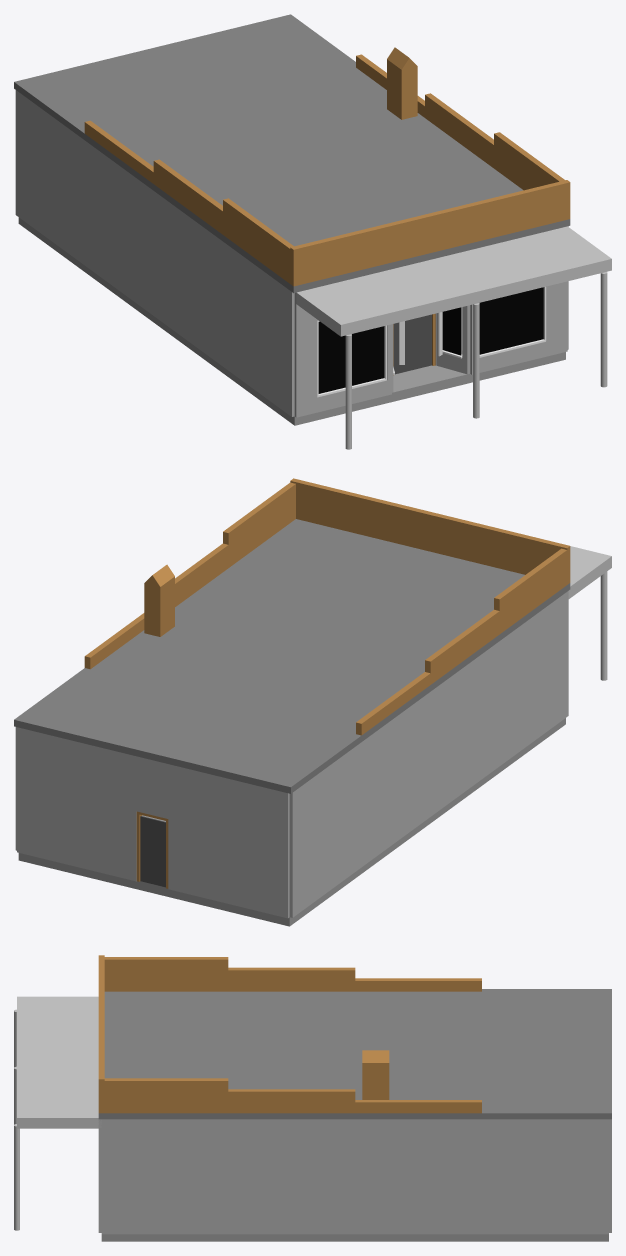
Rendered from building_phase_1b_iter_004.glb.
The picture shows the model from 3 angles, top to bottom: view 1: azimuth 30°, elevation 25°; view 2: azimuth 150°, elevation 25°; view 3: azimuth 270°, elevation 25°; orthographic projection. The views are drawn at different scales.
Visible parts, largest first — view 1: Roof, Wall_Left, Canopy_Roof, Parapet_Front, Wall_Front, Foundation, Front_Left_Window_Glass, Front_Right_Window_Glass, Parapet_Left_Level_1, Parapet_Right_Level_1, Parapet_Left_Level_2, Parapet_Right_Level_2 (+10 smaller); view 2: Roof, Wall_Left, Wall_Rear, Parapet_Front, Foundation, Parapet_Left_Level_1, Parapet_Right_Level_1, Parapet_Left_Level_2, Rear_Service_Door_Panel, Parapet_Right_Level_2, Chimney, Canopy_Roof (+3 smaller); view 3: Wall_Right, Roof, Canopy_Roof, Parapet_Right_Level_1, Parapet_Left_Level_1, Foundation, Parapet_Left_Level_2, Parapet_Right_Level_2, Parapet_Left_Level_3, Parapet_Right_Level_3, Parapet_Front, Chimney (+2 smaller).
Part boxes in pixels (x1,y1,x2,y2): Roof: (14, 14, 570, 293); Wall_Left: (15, 90, 294, 416); Canopy_Roof: (296, 226, 611, 336); Parapet_Front: (290, 180, 570, 286); Wall_Front: (294, 281, 567, 417); Foundation: (18, 217, 565, 425); Front_Left_Window_Glass: (318, 321, 384, 393); Front_Right_Window_Glass: (479, 287, 543, 354); Parapet_Left_Level_1: (223, 198, 293, 283); Parapet_Right_Level_1: (494, 132, 564, 190); Parapet_Left_Level_2: (153, 159, 222, 234); Parapet_Right_Level_2: (425, 93, 493, 168); Roof: (14, 519, 570, 793); Wall_Left: (289, 591, 568, 917); Wall_Rear: (17, 727, 289, 918); Parapet_Front: (290, 478, 570, 584); Foundation: (18, 718, 565, 926); Parapet_Left_Level_1: (494, 548, 567, 633); Parapet_Right_Level_1: (223, 482, 295, 567); Parapet_Left_Level_2: (425, 609, 499, 684); Rear_Service_Door_Panel: (140, 816, 165, 887); Parapet_Right_Level_2: (175, 543, 228, 606); Chimney: (144, 576, 174, 636); Canopy_Roof: (568, 546, 611, 598); Wall_Right: (101, 1119, 608, 1234); Roof: (98, 989, 611, 1119); Canopy_Roof: (17, 996, 101, 1128); Parapet_Right_Level_1: (101, 1078, 228, 1113); Parapet_Left_Level_1: (104, 957, 228, 991); Foundation: (101, 1234, 608, 1241); Parapet_Left_Level_2: (228, 967, 355, 991); Parapet_Right_Level_2: (228, 1089, 355, 1113); Parapet_Left_Level_3: (355, 978, 481, 991); Parapet_Right_Level_3: (355, 1100, 481, 1113); Parapet_Front: (98, 955, 104, 1113); Chimney: (362, 1063, 389, 1099).
Size of the model in its own units: 8.68 by 6.03 by 17.68.
